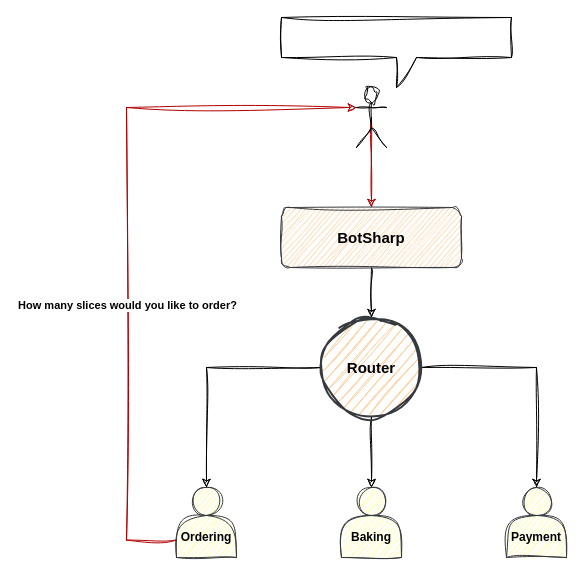
Some shapes in this 584 by 575 pixel diagram are drawn without their labels. The shapes that lost their labels are listed below. From the top down, each one's centre as x and y in pixels, then its label:
At point (396, 52): "Can I have a slice of cheese pizza?".
At point (371, 117): "User".
